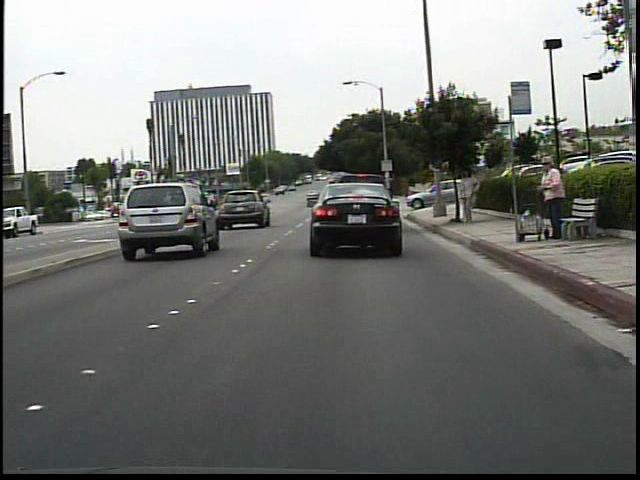person: (533, 151, 565, 240), (456, 163, 483, 225)
